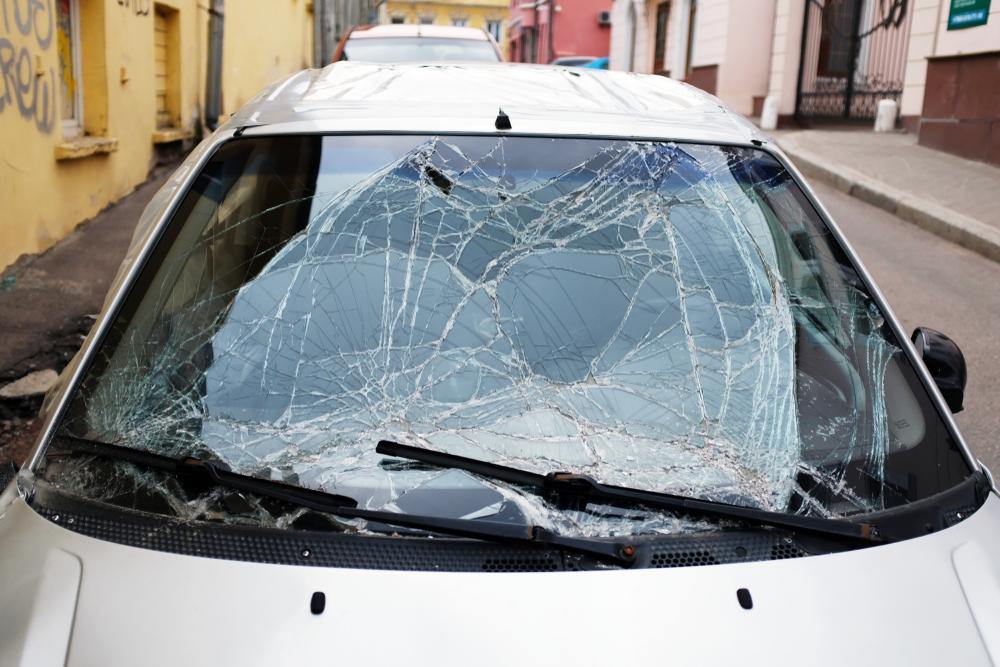glass shatter: (32, 132, 973, 540)
